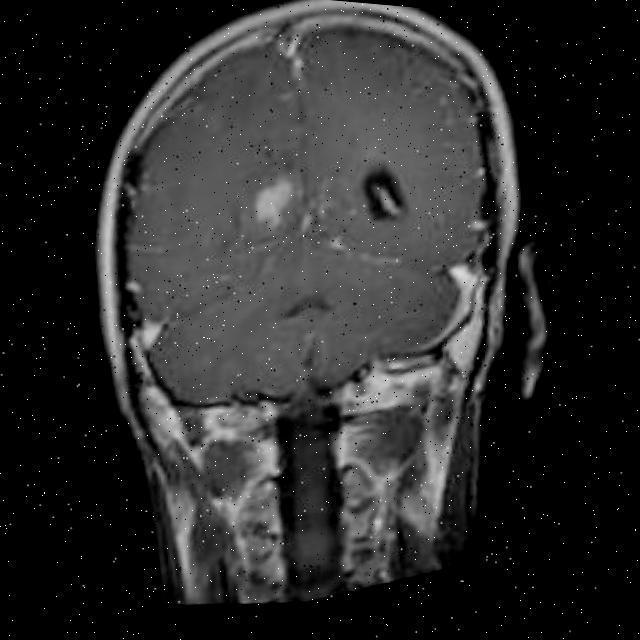LMCI: (174, 142, 329, 308)
MCI: (328, 166, 406, 258)
